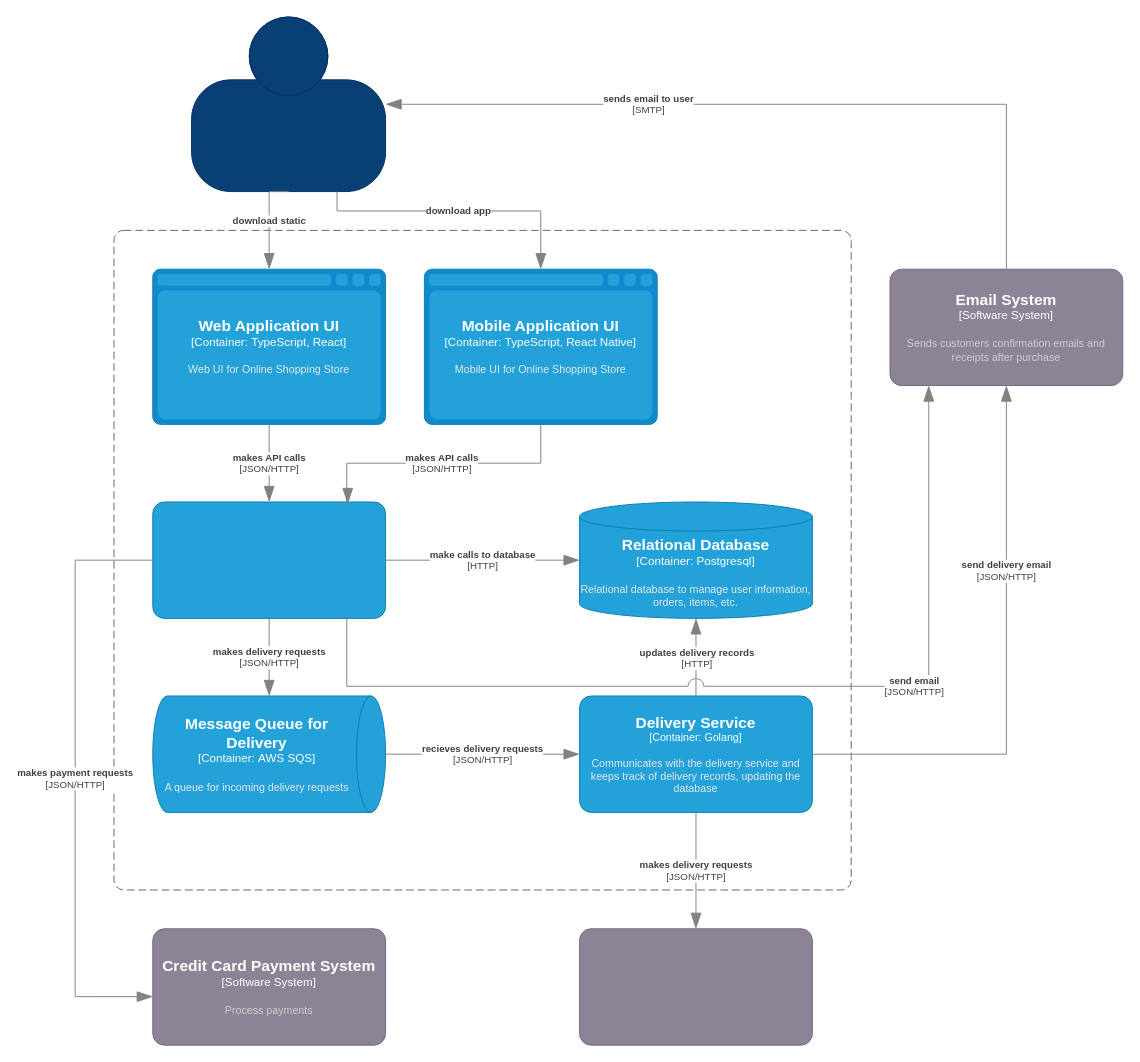
Image size: 1140x1062. Some labels were removed from this diagram. Here are the shapes that lost their labels. From the top down, the box of each, then its label:
(191, 16, 386, 192): Customer [User] End User
(152, 501, 386, 618): Rest API [Container: Golang, Gin] Rest API that processes user requests
(113, 229, 851, 890): Online Shopping Store [Software System]
(579, 928, 812, 1045): Delivery System [Software System] Process shipping and handling
